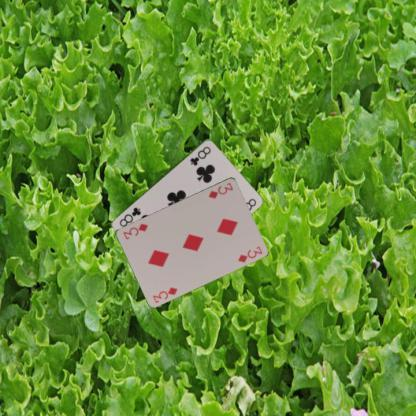3d: (206, 180, 235, 200), (150, 284, 179, 304)
8c: (187, 143, 212, 167)
